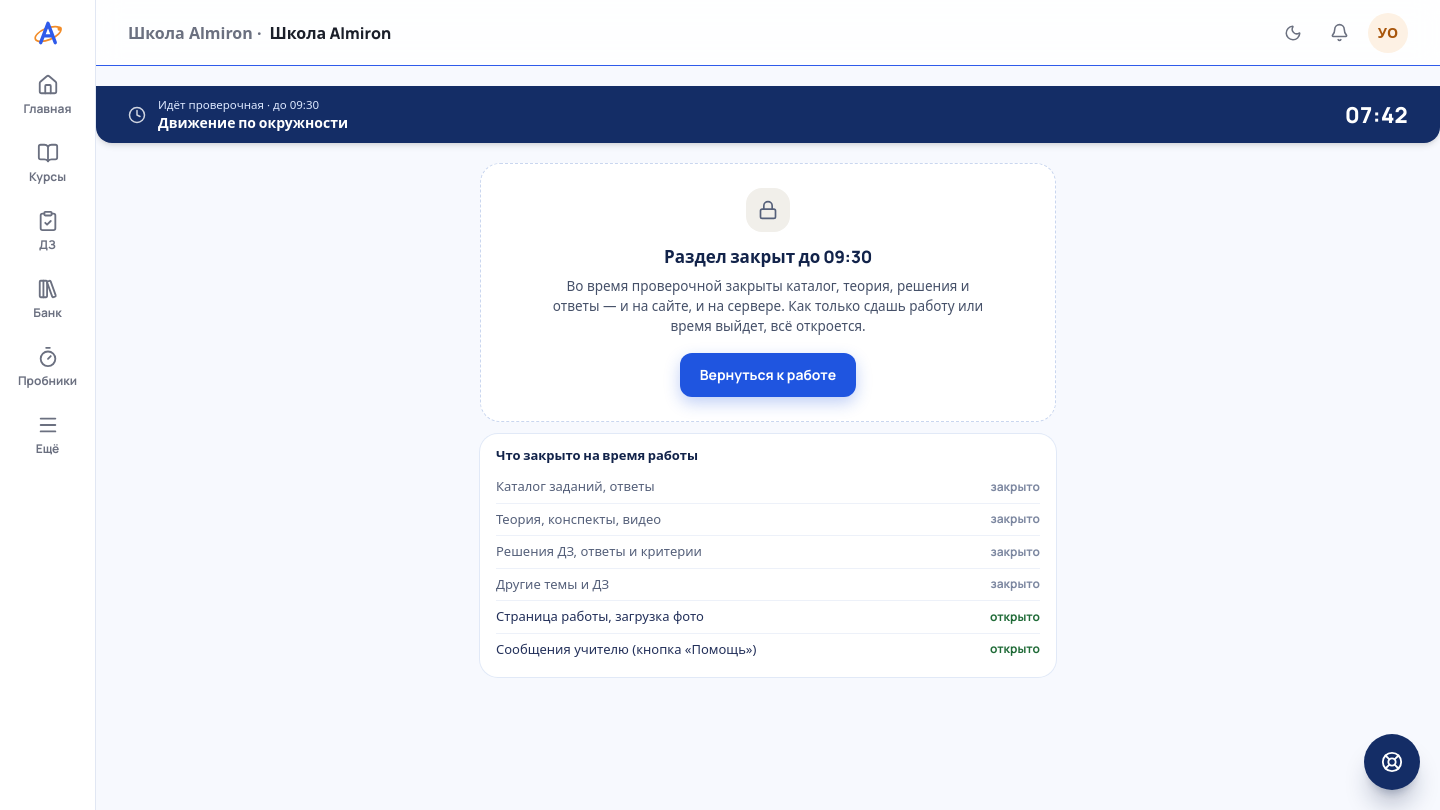
Scenario: Режим работы в кабинете (§263) › «Вернуться к работе» ведёт на страницу работы
The image size is (1440, 810).
Click the link with test id "work-mode-back": (768, 374) [680, 352, 856, 396]
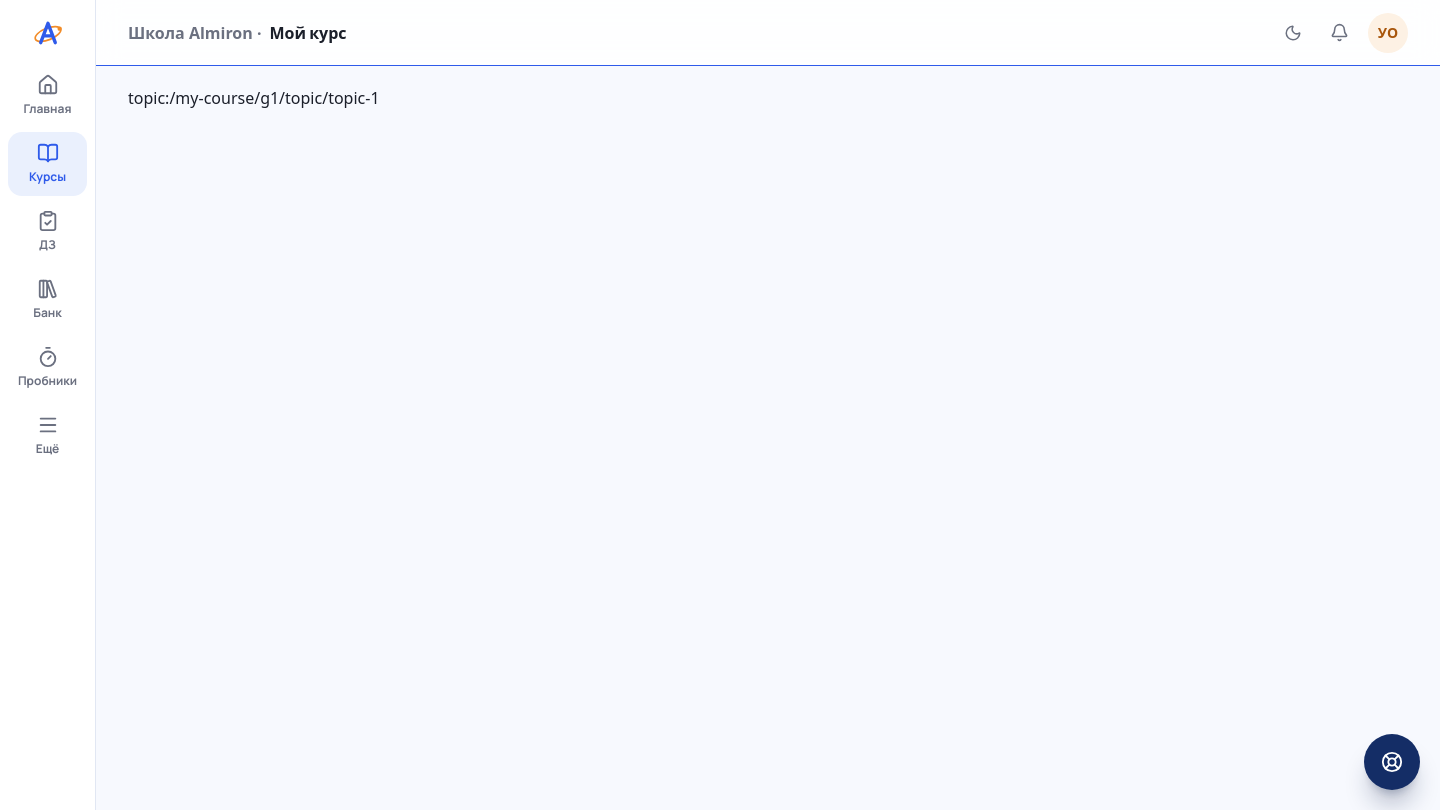
Expected: the text with test id "page" reads "topic:/my-course/g1/topic/topic-1", [128, 87, 380, 109]
